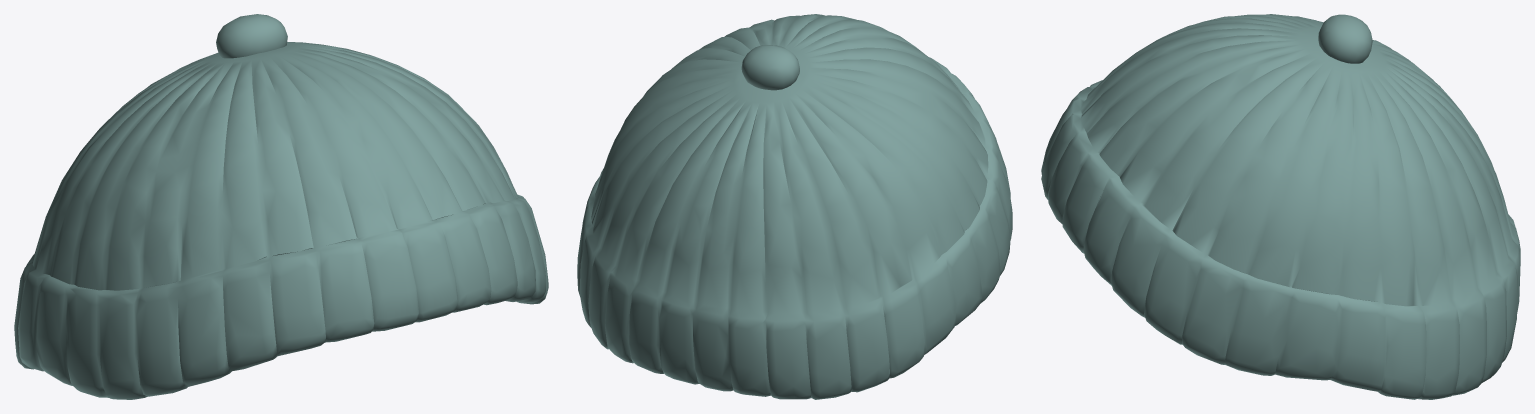
Rendered from headwear-beanie-red-6ce9c49d.glb.
3 views of the same model, side by side, from view 1: azimuth 30°, elevation 25°; view 2: azimuth 150°, elevation 25°; view 3: azimuth 270°, elevation 25° (orthographic). The views are drawn at different scales.
Parts seen in each view (by area): view 1: Geo_Black_Old_Male_Beanie_Red.001; view 2: Geo_Black_Old_Male_Beanie_Red.001; view 3: Geo_Black_Old_Male_Beanie_Red.001.
Part boxes in pixels (<box>): Geo_Black_Old_Male_Beanie_Red.001: <box>14,14,548,399</box>; Geo_Black_Old_Male_Beanie_Red.001: <box>577,14,1012,399</box>; Geo_Black_Old_Male_Beanie_Red.001: <box>1041,14,1520,399</box>.
Size of the model in its own units: 1.42 by 1.05 by 1.45.
